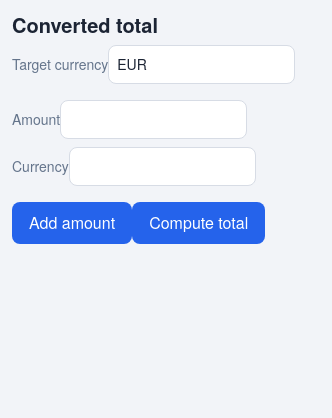
Test: ConvertedTotalCard › affiche le total, la fraîcheur (date des taux) et pas de bandeau d'incomplétude quand complet
Replace the text in the field with test id "exchange-target" with "USD". click: [202, 64]
box: [108,45,295,84]
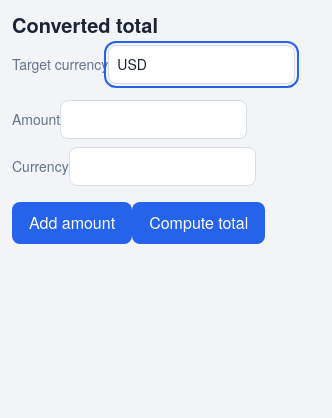
Type "10" into the field with test id "exchange-amount-0". click: [154, 120]
box: [60,100,247,139]
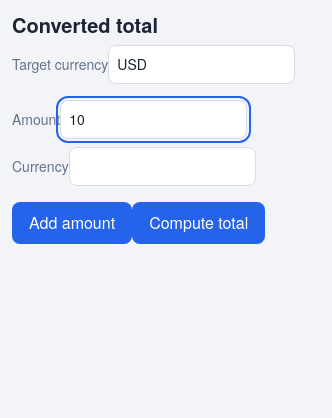
Type "EUR" into the field with test id "exchange-currency-0". click: [162, 166]
box: [69,147,256,186]
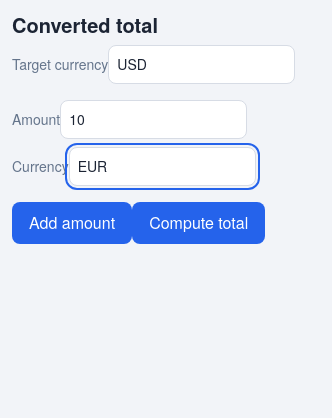
Click the button with test id "exchange-submit". click: [199, 223]
box: [132,202,265,244]
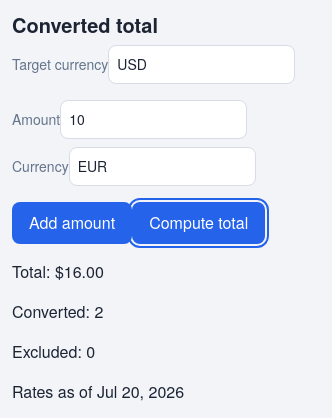
Check: the text with test id "exchange-total" shows "$16.00", box [55,260,104,283]
